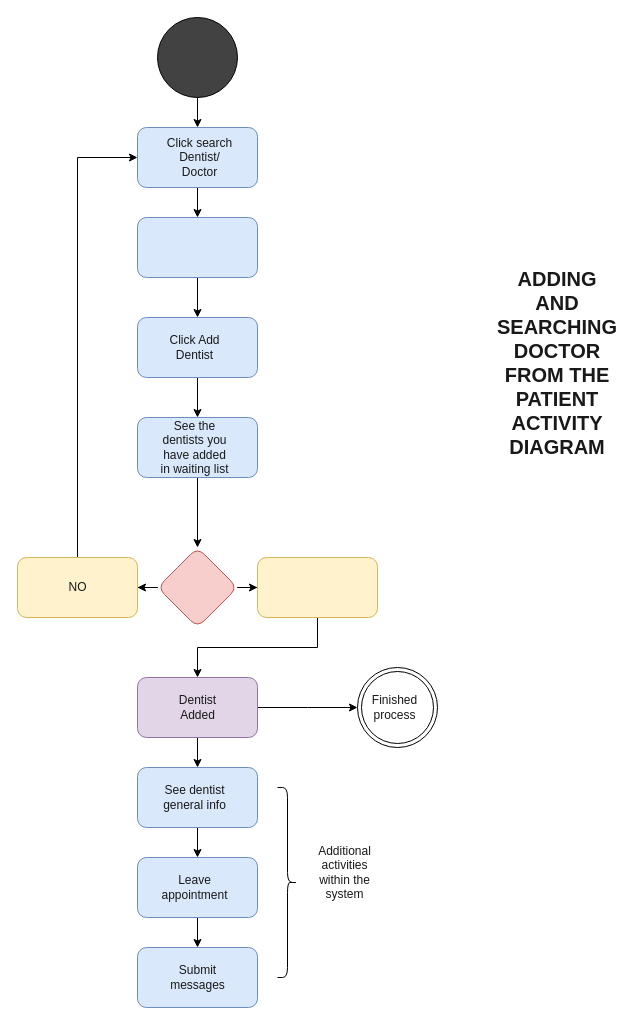
The diagram is 635 pixels wide and 1025 high, and some of its shapes have lost their labels. The box of each missing label's shape, as (x1, y1, x2, y2) in pixels:
Dentist evaluation: (156, 546, 238, 628)
See locations/ set up locations: (136, 216, 258, 278)
START: (156, 16, 238, 98)
YES: (256, 556, 378, 618)
